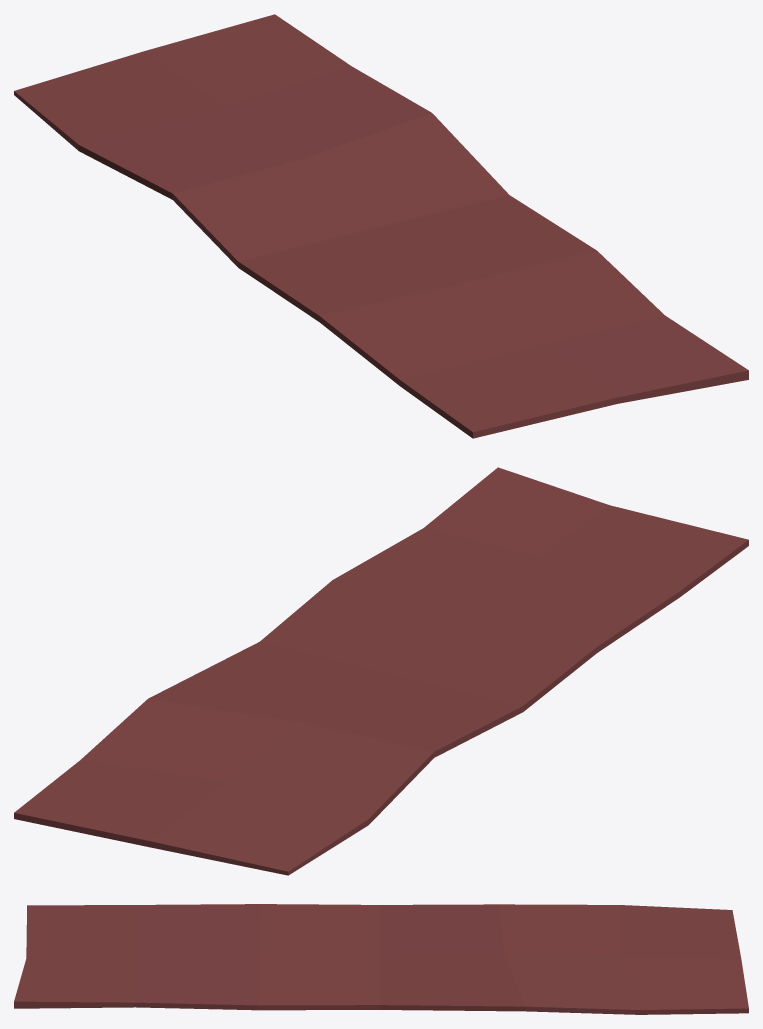
The model's file is Rug.fbx.
The picture shows the model from 3 angles, top to bottom: view 1: azimuth 30°, elevation 25°; view 2: azimuth 150°, elevation 25°; view 3: azimuth 270°, elevation 25°; orthographic projection. The views are drawn at different scales.
Visible parts, largest first — view 1: Rug; view 2: Rug; view 3: Rug.
Part boxes in pixels (x1=…): Rug: x1=14, y1=14, x2=748, y2=438; Rug: x1=14, y1=467, x2=748, y2=875; Rug: x1=14, y1=904, x2=748, y2=1014.
Bounding box in the file's own units: 209 × 9.34 × 607.
